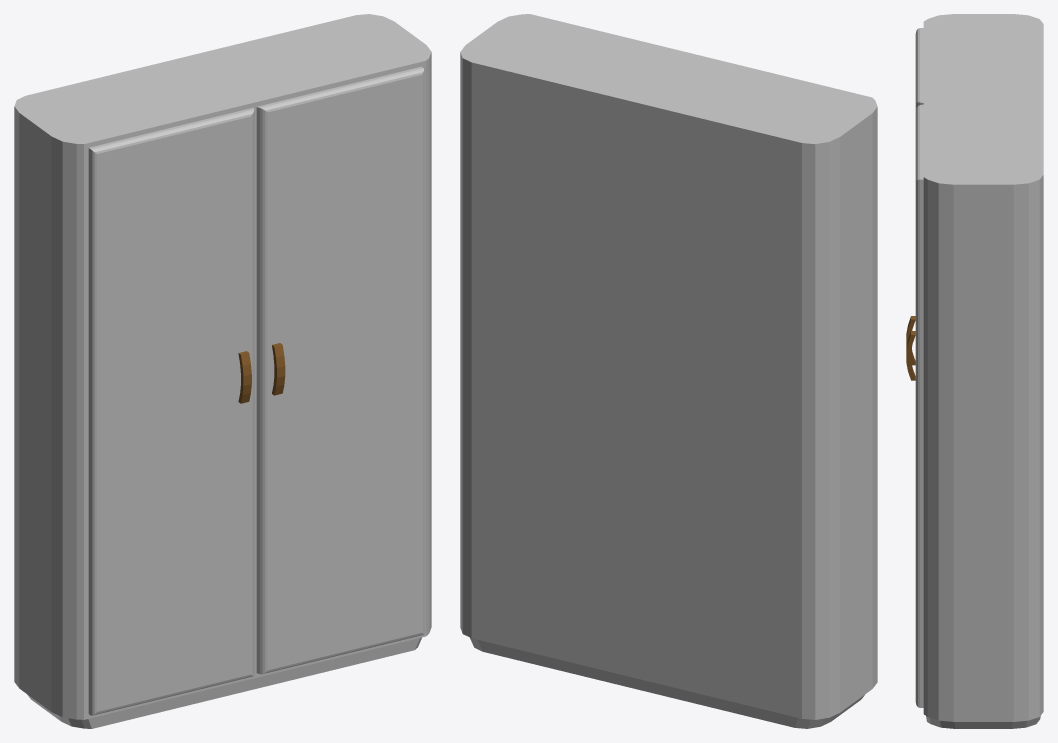
The model's file is Wardrobe_5.fbx.
3 views of the same model, side by side, from view 1: azimuth 30°, elevation 25°; view 2: azimuth 150°, elevation 25°; view 3: azimuth 270°, elevation 25° (orthographic). The views are drawn at different scales.
Parts seen in each view (by area): view 1: Wardrobe_5 Door_2, Wardrobe_5 Door_1, Wardrobe_5; view 2: Wardrobe_5; view 3: Wardrobe_5, Wardrobe_5 Door_2, Wardrobe_5 Door_1.
Boxes of the visible parts, left/top/right/bottom form: Wardrobe_5 Door_2: left=256, top=66, right=424, bottom=674; Wardrobe_5 Door_1: left=88, top=107, right=254, bottom=715; Wardrobe_5: left=14, top=14, right=431, bottom=728; Wardrobe_5: left=460, top=14, right=877, bottom=728; Wardrobe_5: left=923, top=14, right=1043, bottom=728; Wardrobe_5 Door_2: left=906, top=104, right=923, bottom=707; Wardrobe_5 Door_1: left=906, top=28, right=923, bottom=365.
Size of the model in its own units: 1.5 by 2.25 by 0.51.
